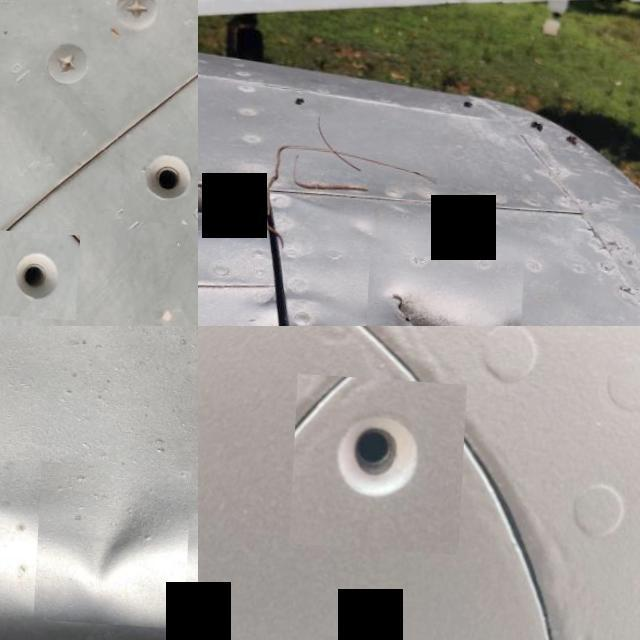Crack: (368, 248, 527, 326)
Dent: (40, 458, 196, 624)
Missing_Fastener: (292, 372, 468, 551), (0, 228, 84, 318), (125, 130, 198, 220)
